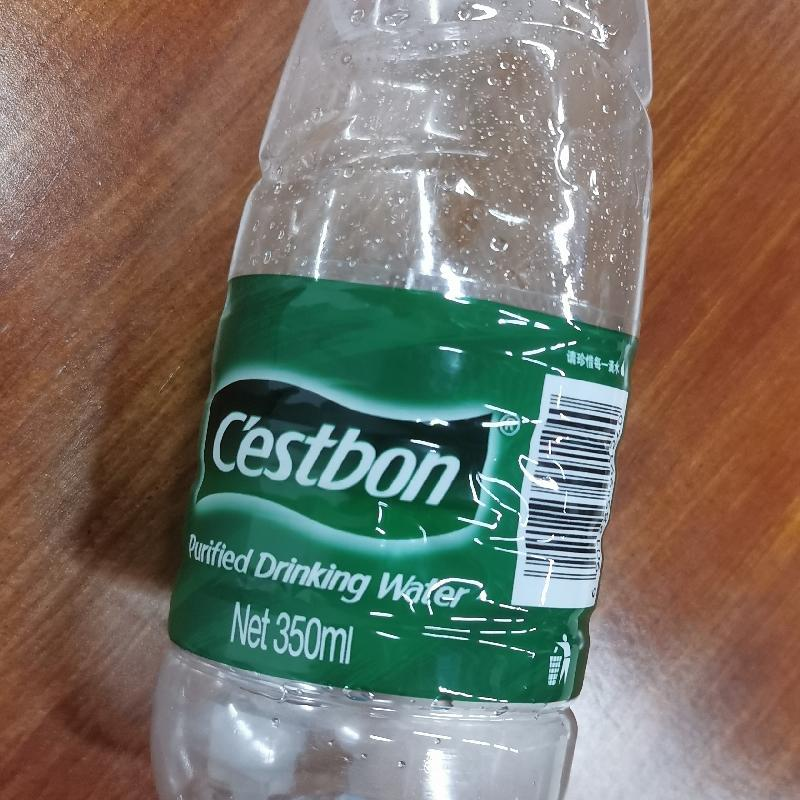bottles: (140, 0, 657, 799)
